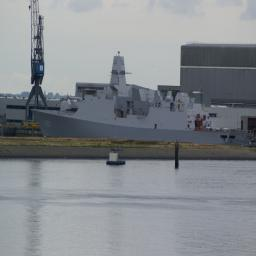Fragata: (30, 59, 253, 144)
